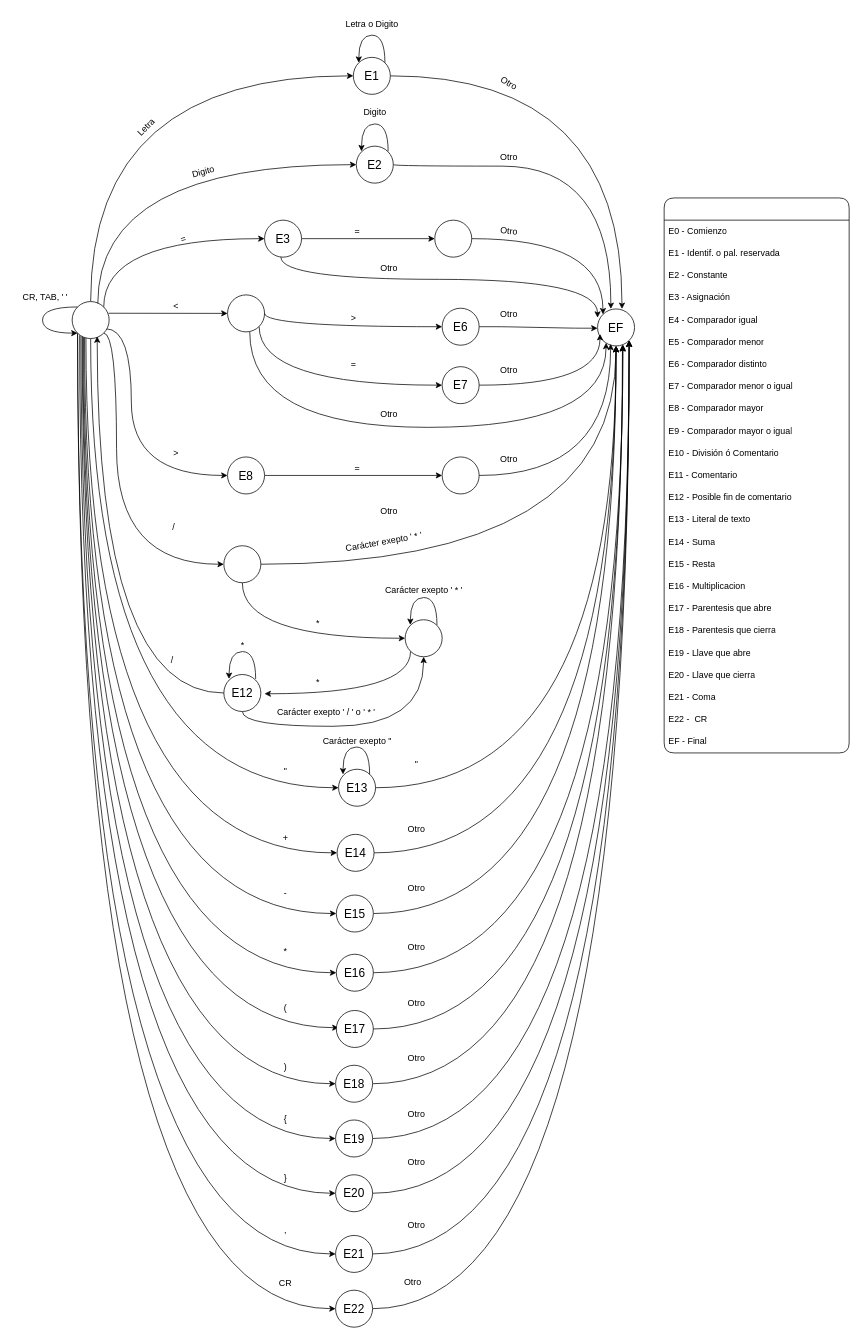
Image size: 862x1340. Some labels were removed from this diagram. The box of each missing label's shape, as (x1, y1, x2, y2) in pixels:
E0: (71, 301, 109, 339)
E10: (223, 545, 261, 583)
E11: (404, 619, 442, 657)
E4: (434, 219, 472, 257)
E5: (227, 294, 265, 332)
E9: (441, 456, 479, 494)
Estados: (663, 197, 849, 753)
